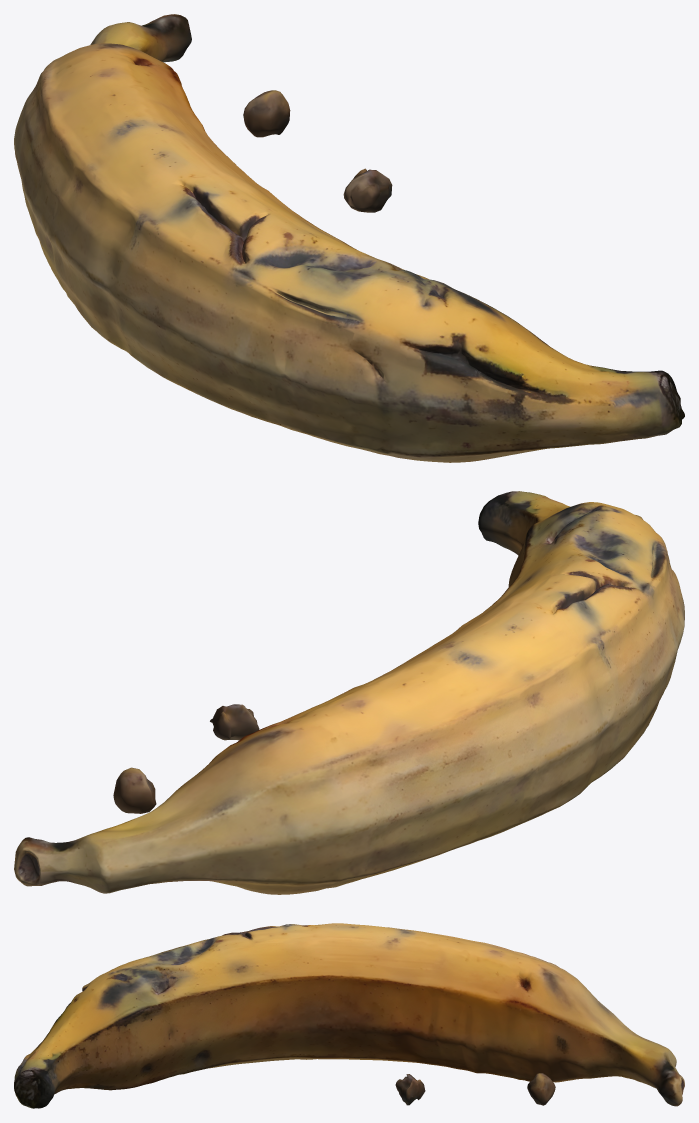
The model's file is PlatanoDeFreir.glb.
The picture shows the model from 3 angles, top to bottom: view 1: azimuth 30°, elevation 25°; view 2: azimuth 150°, elevation 25°; view 3: azimuth 270°, elevation 25°; orthographic projection. The views are drawn at different scales.
Visible parts, largest first — view 1: tripo_node_528d1401-b355-49f2-a96d-2e7e8fd60e4b; view 2: tripo_node_528d1401-b355-49f2-a96d-2e7e8fd60e4b; view 3: tripo_node_528d1401-b355-49f2-a96d-2e7e8fd60e4b.
Part boxes in pixels (<box>): tripo_node_528d1401-b355-49f2-a96d-2e7e8fd60e4b: <box>14,14,684,462</box>; tripo_node_528d1401-b355-49f2-a96d-2e7e8fd60e4b: <box>14,491,684,894</box>; tripo_node_528d1401-b355-49f2-a96d-2e7e8fd60e4b: <box>14,923,684,1108</box>.
Size of the model in its own units: 0.3963 by 0.2095 by 1.
Materials: 1 (1 with a texture image).
